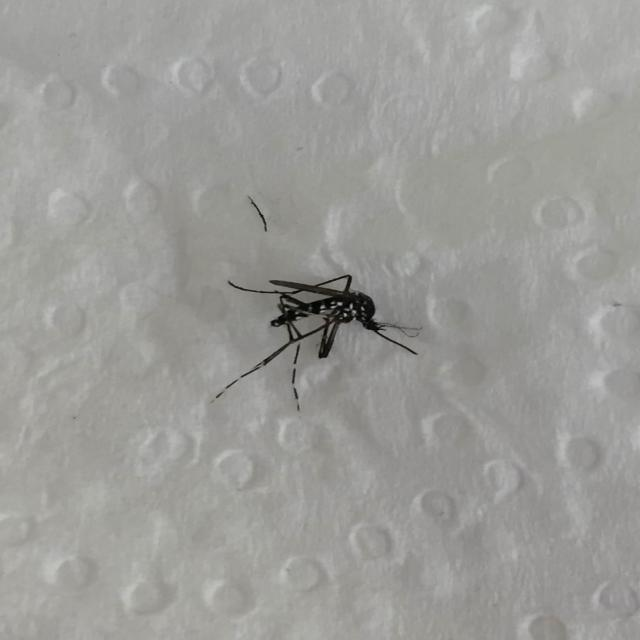albopictus: (208, 252, 425, 416)
